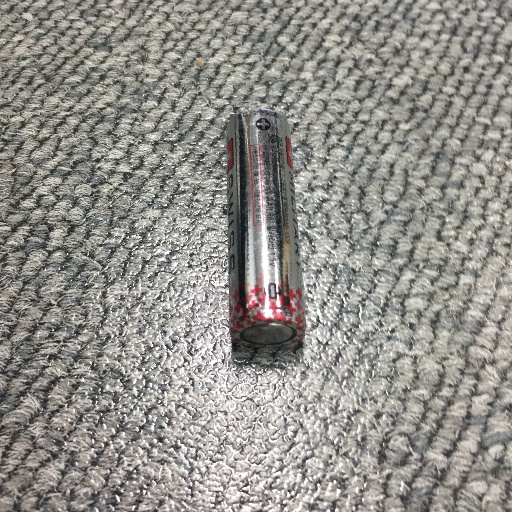Battery_0: (218, 104, 310, 359)
